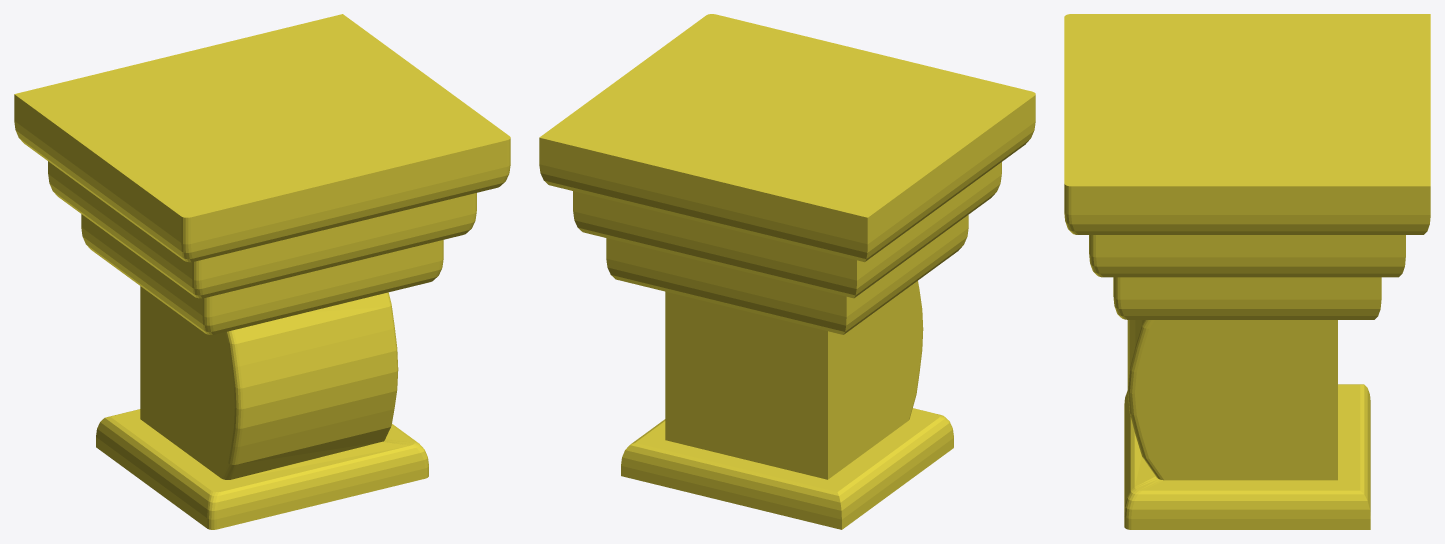
The model's file is ParteSuperiorPilastraRedonda.fbx.
3 renders of one model, left to right at view 1: azimuth 30°, elevation 25°; view 2: azimuth 150°, elevation 25°; view 3: azimuth 270°, elevation 25°, orthographic. The views are drawn at different scales.
Visible parts, largest first — view 1: ParteSuperiorPilastraRedonda; view 2: ParteSuperiorPilastraRedonda; view 3: ParteSuperiorPilastraRedonda.
Boxes of the visible parts, x1,y1,x2,y2 form: ParteSuperiorPilastraRedonda: (14,14,510,529); ParteSuperiorPilastraRedonda: (539,14,1035,529); ParteSuperiorPilastraRedonda: (1064,14,1430,529).
Bounding box in the file's own units: 139 × 140 × 125.
